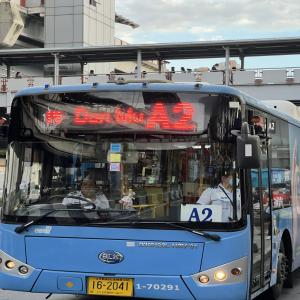BMTA-bus: (0, 77, 300, 300)
Bus Line Number: (142, 98, 202, 133)
Bus Side Number: (134, 278, 182, 293)
Destination Sign: (181, 204, 222, 222)
